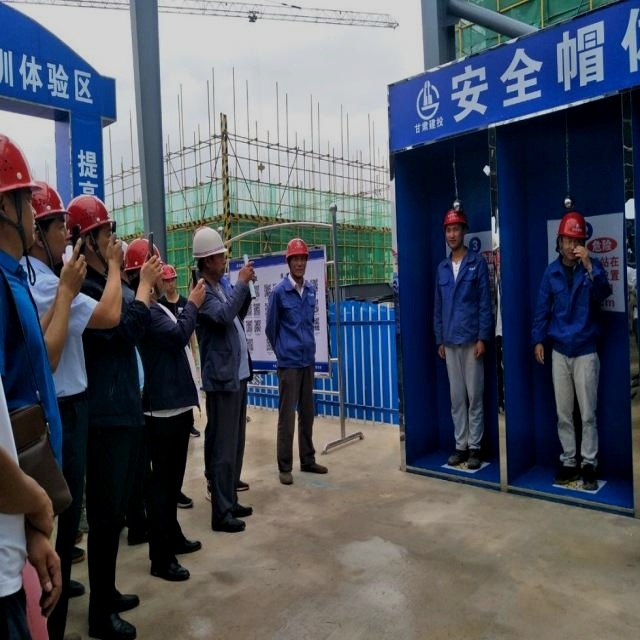Con_Casco: (557, 210, 585, 267), (285, 237, 310, 279), (442, 211, 466, 250)
